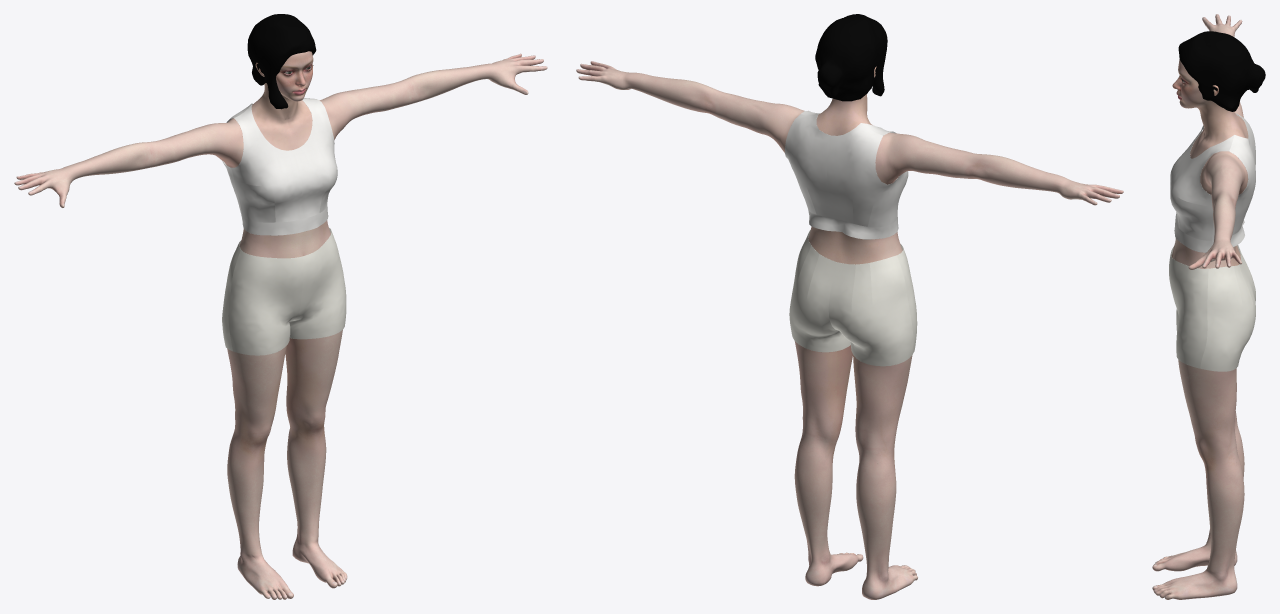
File: Dynamic.obj
3 views of the same model, side by side, from view 1: azimuth 30°, elevation 25°; view 2: azimuth 150°, elevation 25°; view 3: azimuth 270°, elevation 25° (orthographic). The views are drawn at different scales.
Bounding box in the file's own units: 1746 × 1760 × 330.
